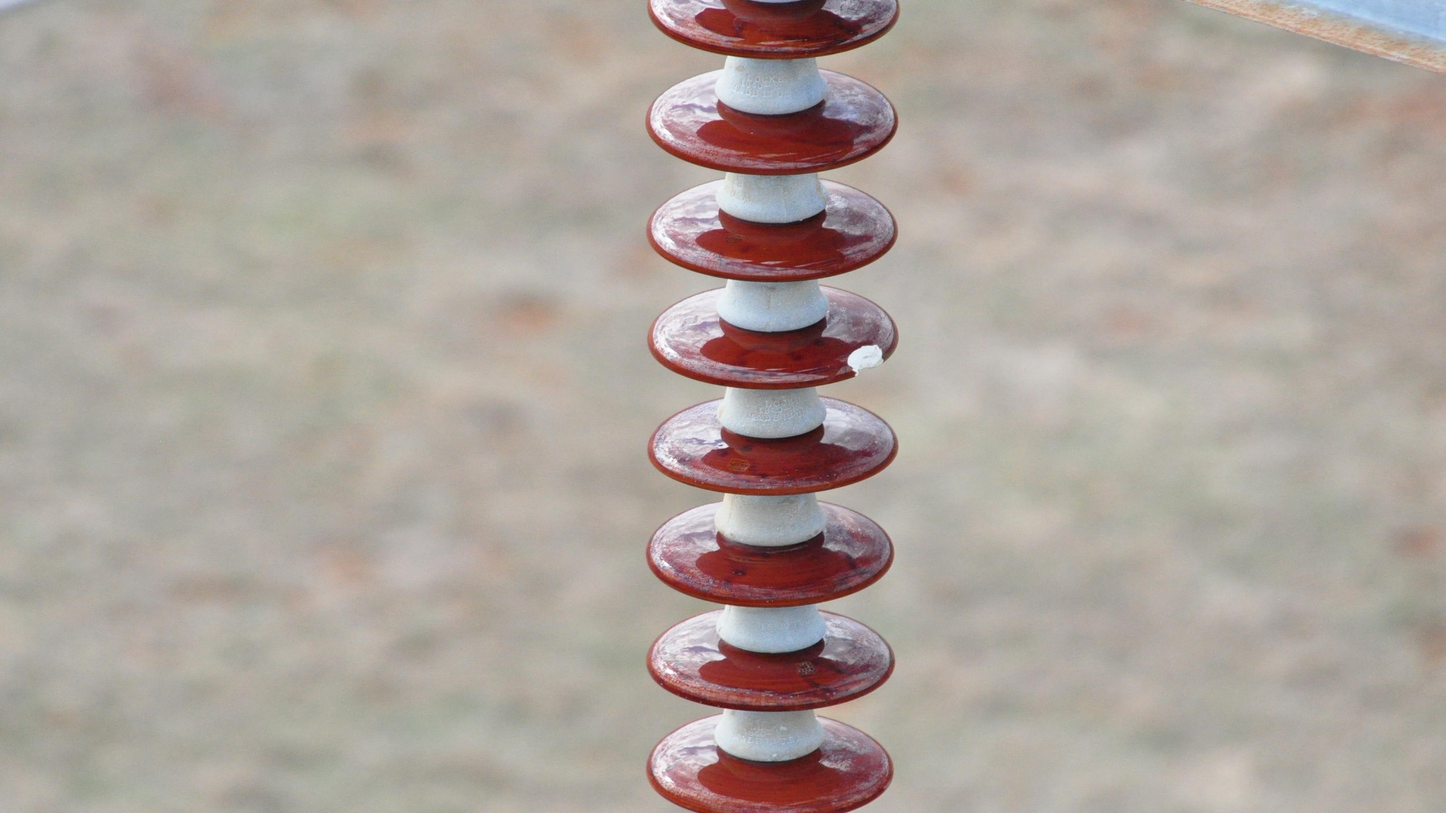insulator: (637, 1, 906, 813)
